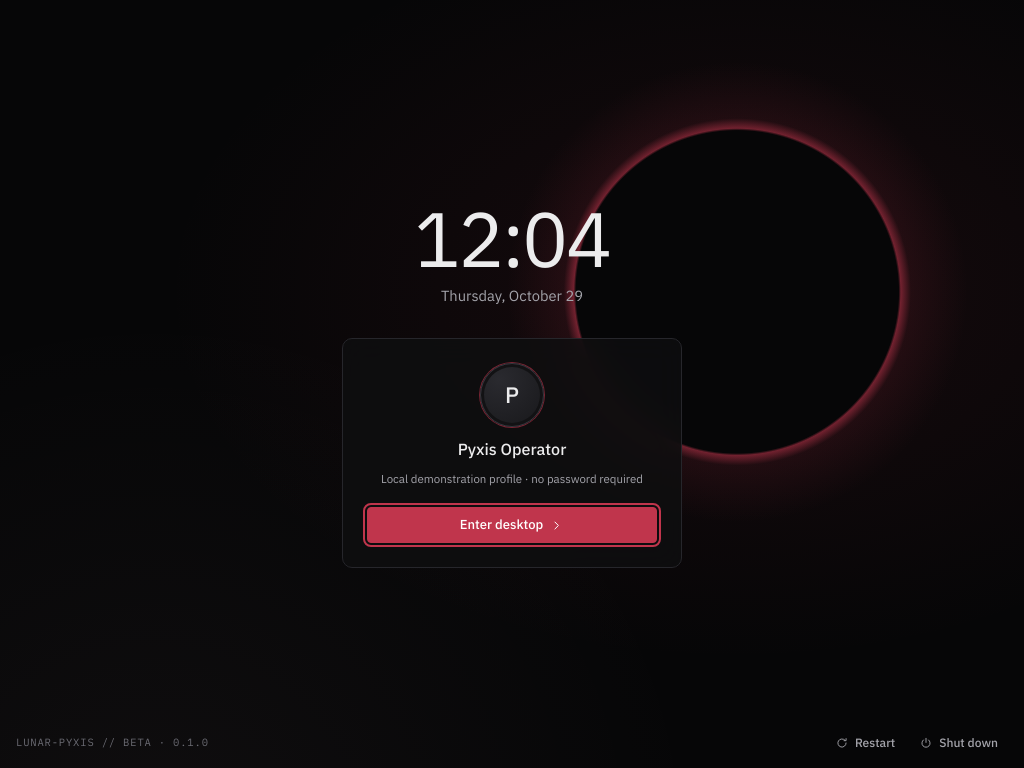
Test case: desktop integration › command palette runs allowlisted actions and natural-language commands
Click the button "Enter desktop": (512, 525) [367,507,657,543]
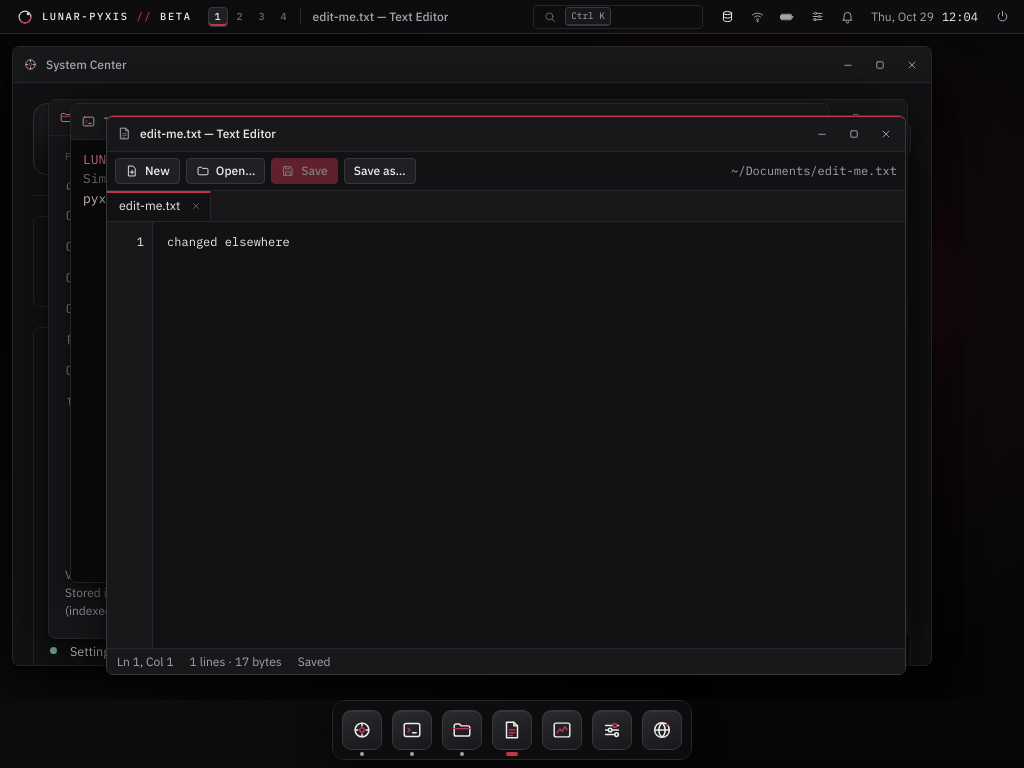
Expected: the dialog "System Center" is shown
Press k
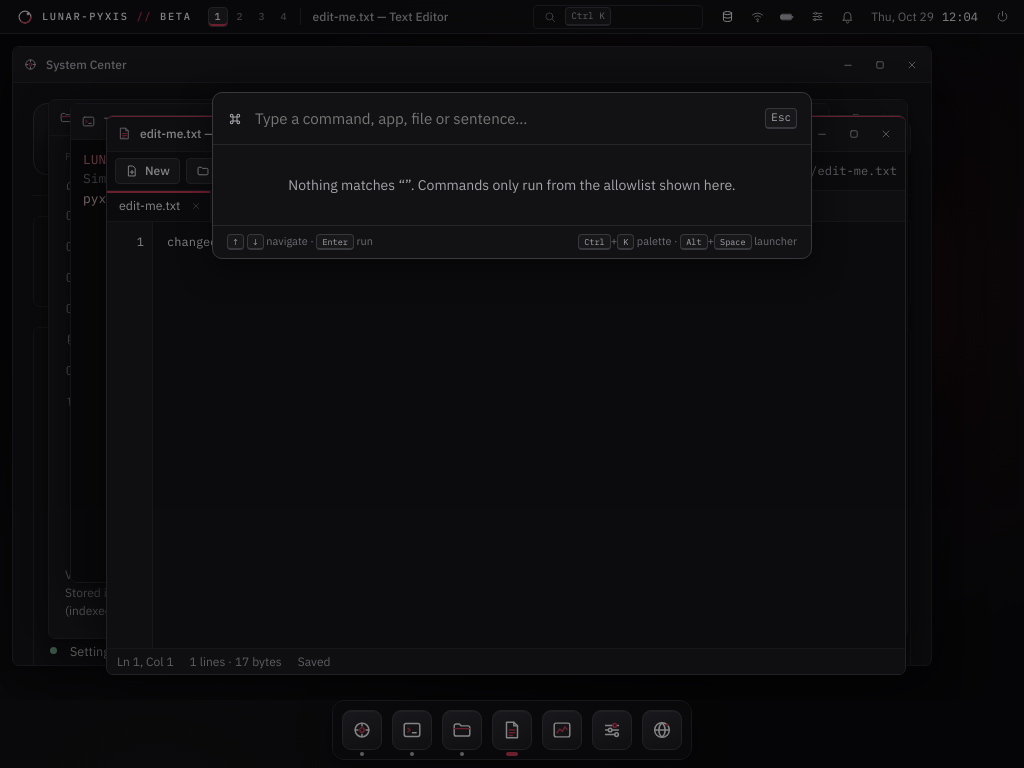
In the dropdown labelled "command, app, file or sentence": (504, 119) [253,93,755,144], type "open the process explorer"
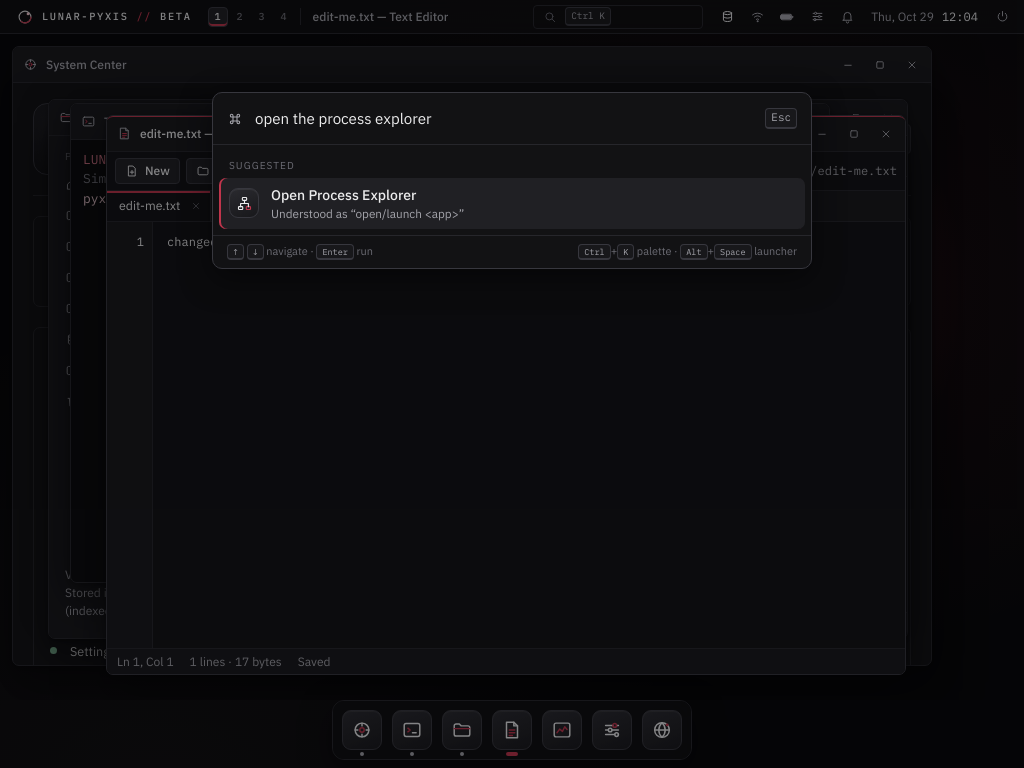
Expected: the text "Understood as “open/launch <app>”" is shown, [271,205,464,222]
Press Enter in the dropdown named "command, app, file or sentence", box [253,93,755,144]
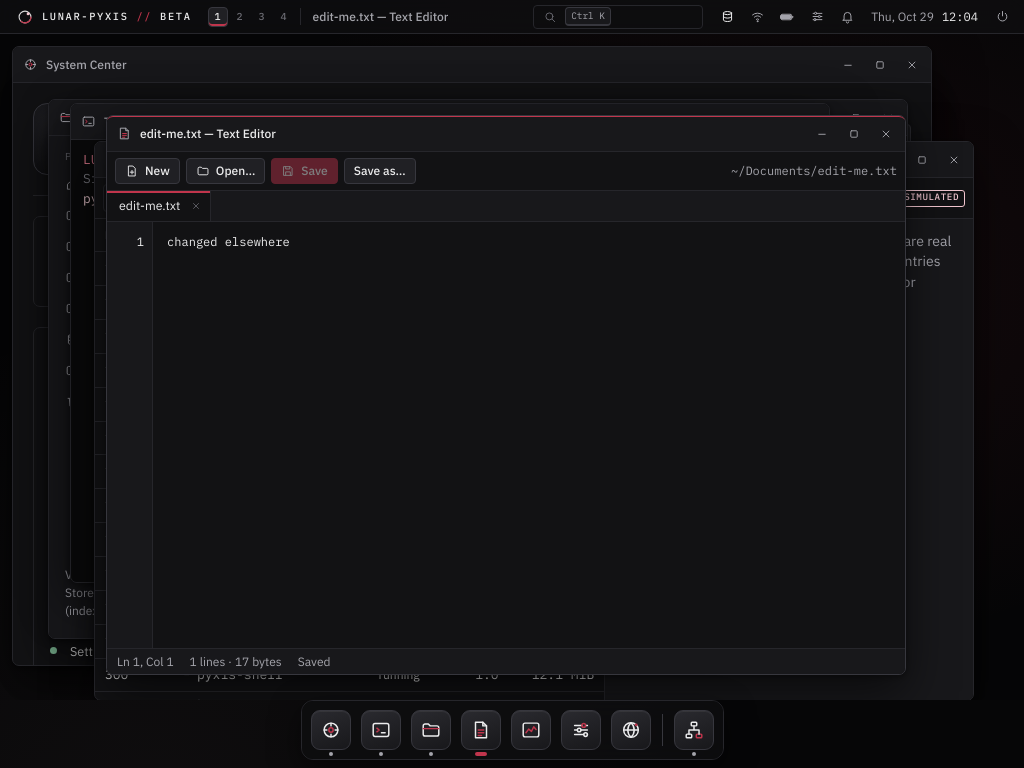
Expected: the dialog "Process Explorer" is shown
Expected: the dialog "Command palette" is gone
